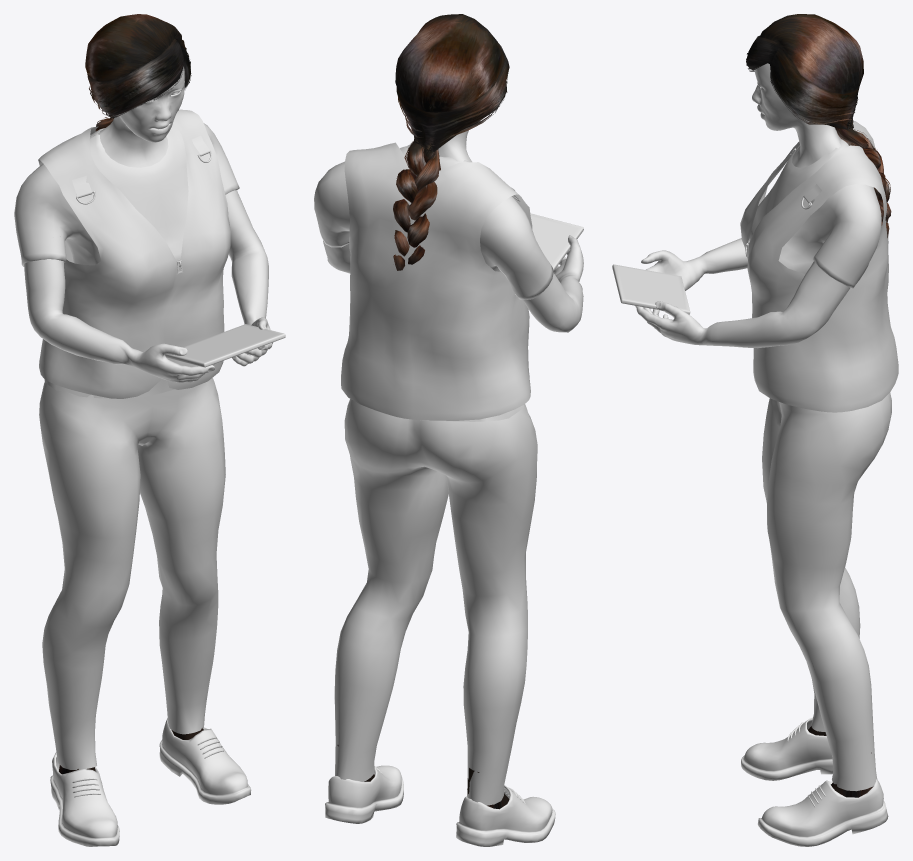
Rendered from WithoutMask.fbx.
The picture shows the model from 3 angles, left to right: view 1: azimuth 30°, elevation 25°; view 2: azimuth 150°, elevation 25°; view 3: azimuth 270°, elevation 25°; orthographic projection. The views are drawn at different scales.
Visible parts, largest first — view 1: Mesh; view 2: Mesh; view 3: Mesh.
Boxes of the visible parts, bbox=[...] form: Mesh: bbox=[14, 14, 285, 846]; Mesh: bbox=[314, 14, 583, 846]; Mesh: bbox=[612, 14, 898, 846].
Bounding box in the file's own units: 53.93 × 176 × 58.55.
